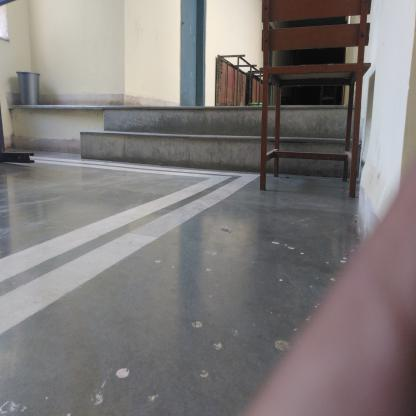stairs: (104, 105, 261, 165)
